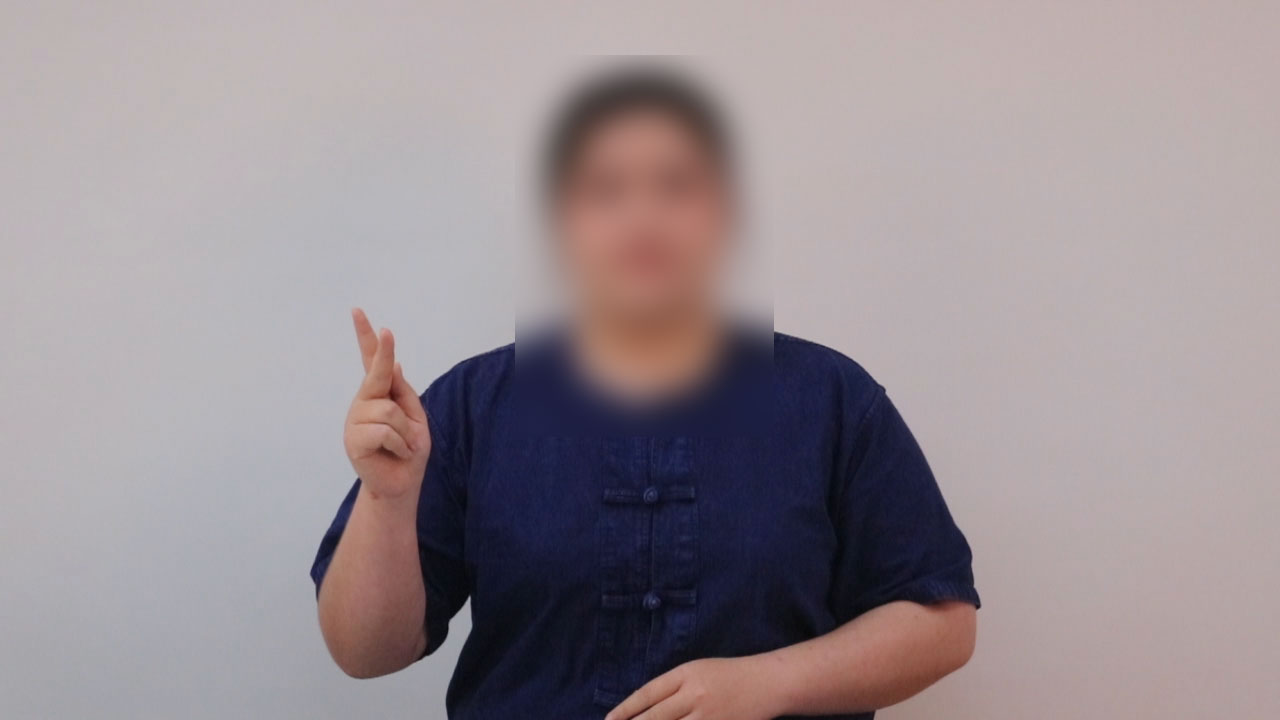ko: (312, 300, 462, 500)
